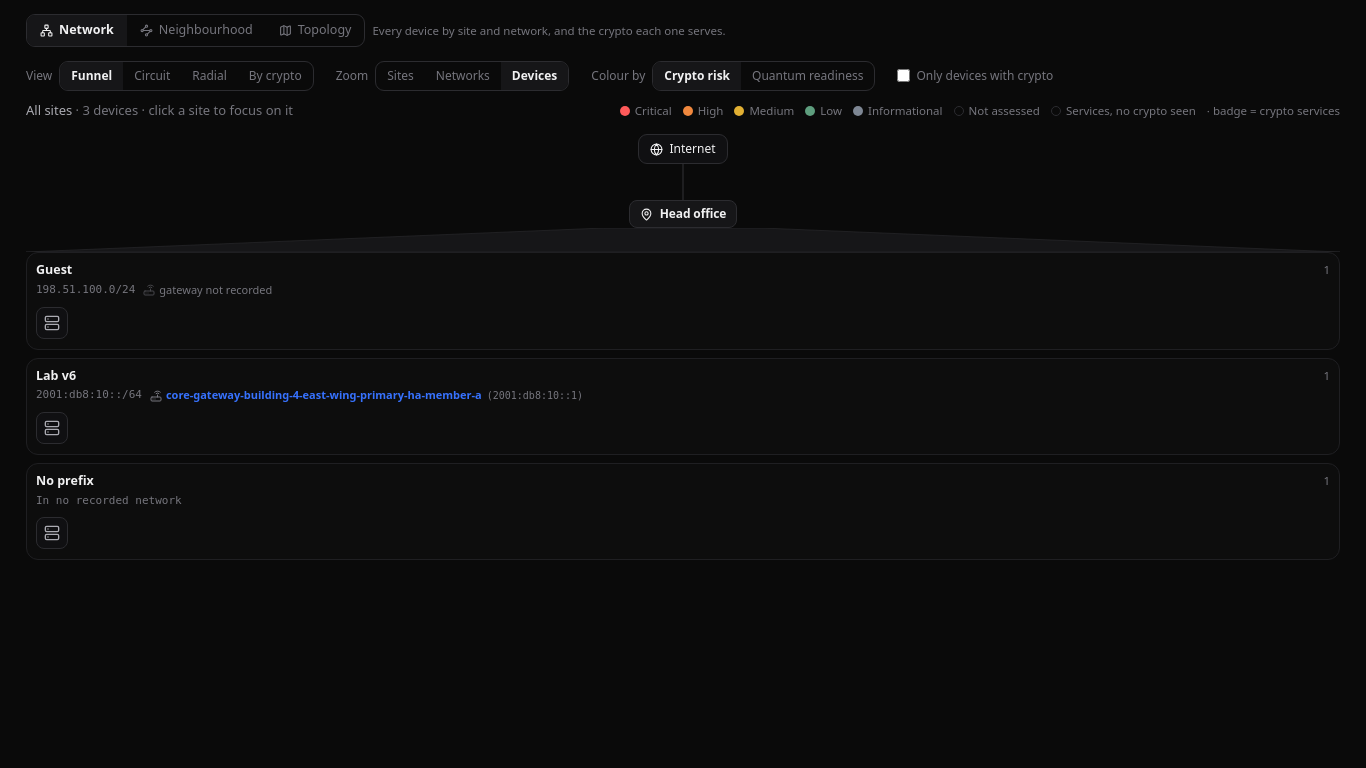
Test: labels the network rows the same way in the Circuit layout
Click the radio button labelled "Circuit" at (152, 76), box [123,62,181,90]
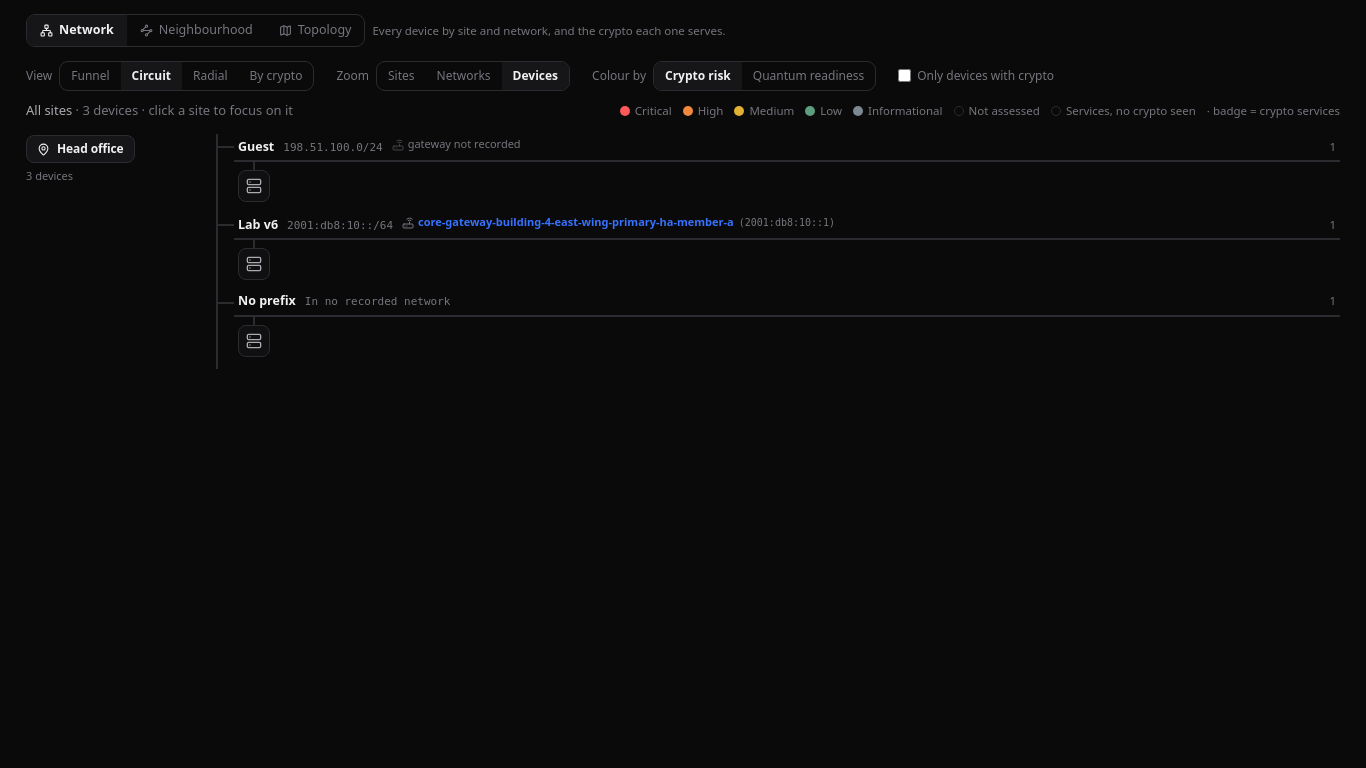
Check: the element with test id "network-map-gateway" shows "core-gateway-building-4-east-wing-primary-ha-member-a", box [418,214,734,231]
Check: the element with test id "network-map-circuit" is shown, box [26,134,1340,369]
